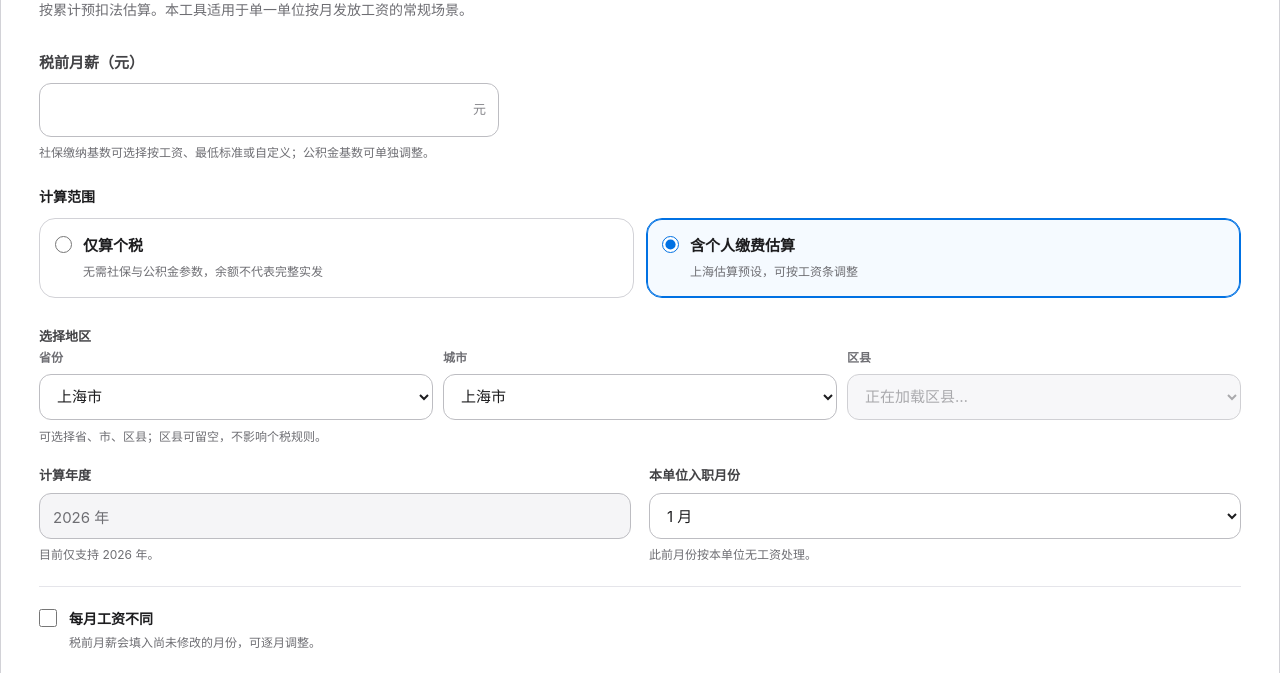
SalaryCalculator › uses the verified Shanghai minimum when the minimum social base is selected
Type "8000" into the field labelled "税前月薪（元）" at (269, 110), box [39,83,499,137]
(page scrolled)
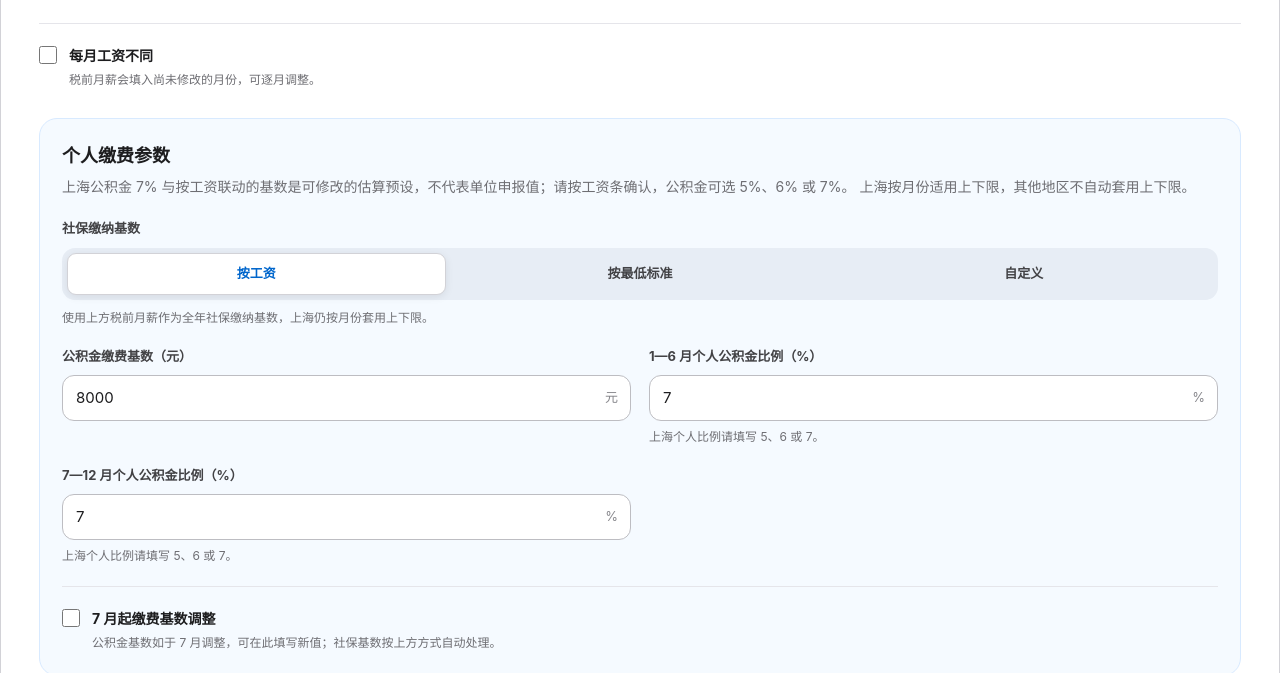
Click the radio button labelled "按最低标准" at (640, 273), box [608,265,672,281]
(page scrolled)
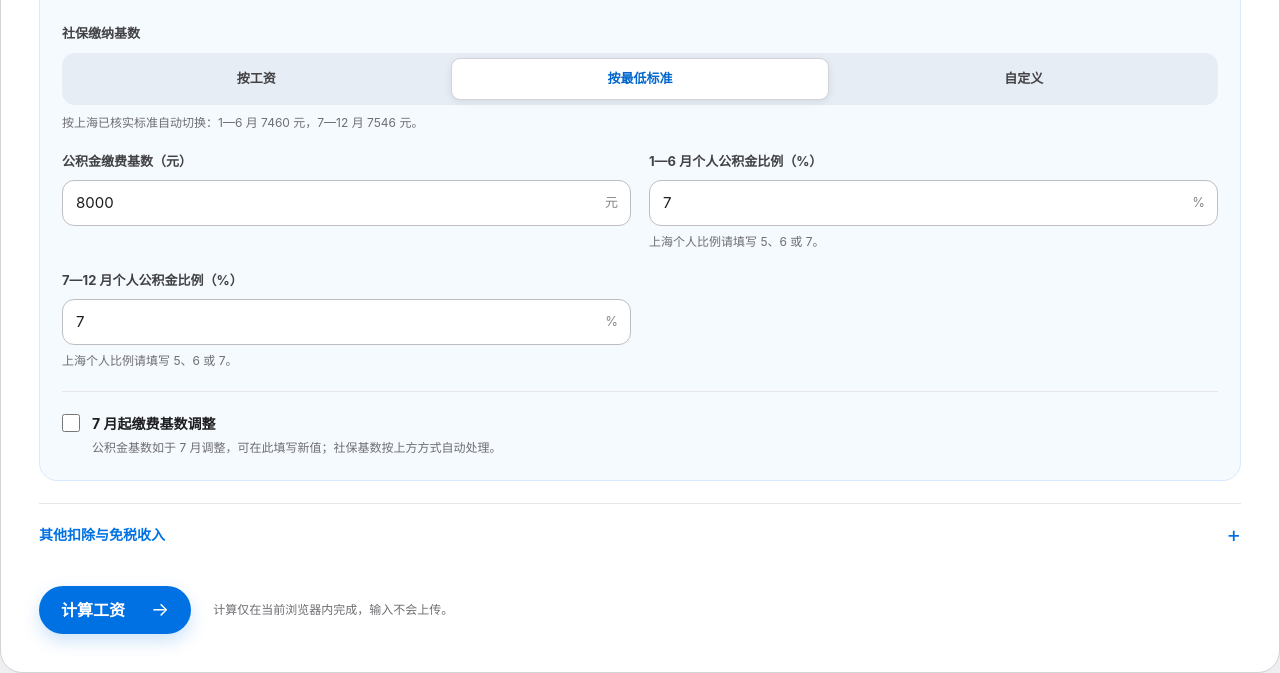
Expected: the radio button labelled "按最低标准" is checked, [451,58,829,100]
Expected: the text "按上海已核实标准自动切换：1—6 月 7460 元，7—12 月 7546 元。" is shown, [62,115,423,130]
Click the button "计算工资 →" at (115, 610), box [39,586,191,634]
(page scrolled)
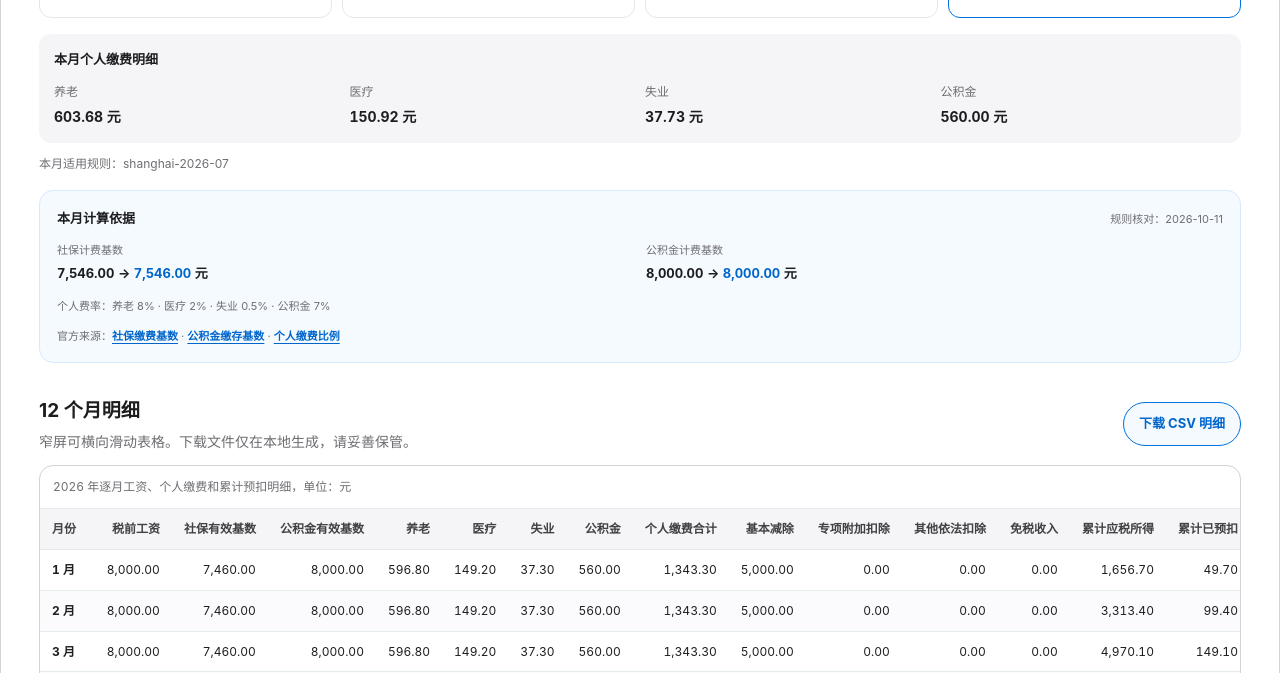
Expected: the text named "本月社保有效基数" reads "7,546.00", [134,265,191,281]
